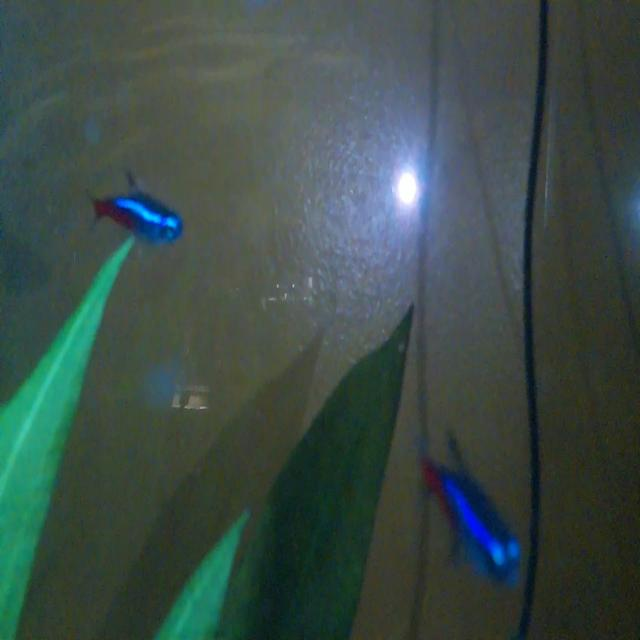fish: (408, 407, 528, 587), (88, 165, 190, 253)
